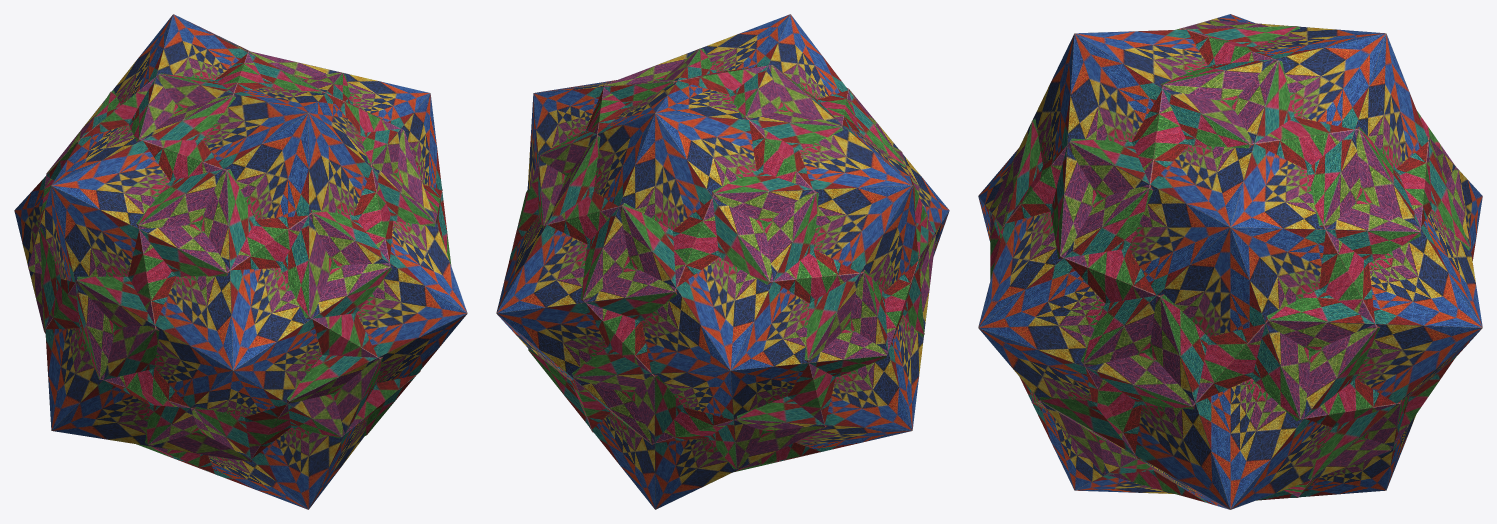
The model's file is MedialPentagonalHexecontahedron6.obj.
3 renders of one model, left to right at view 1: azimuth 30°, elevation 25°; view 2: azimuth 150°, elevation 25°; view 3: azimuth 270°, elevation 25°, orthographic. The views are drawn at different scales.
Size of the model in its own units: 2.46 by 2.46 by 2.46.
1 material, 1 textured.
